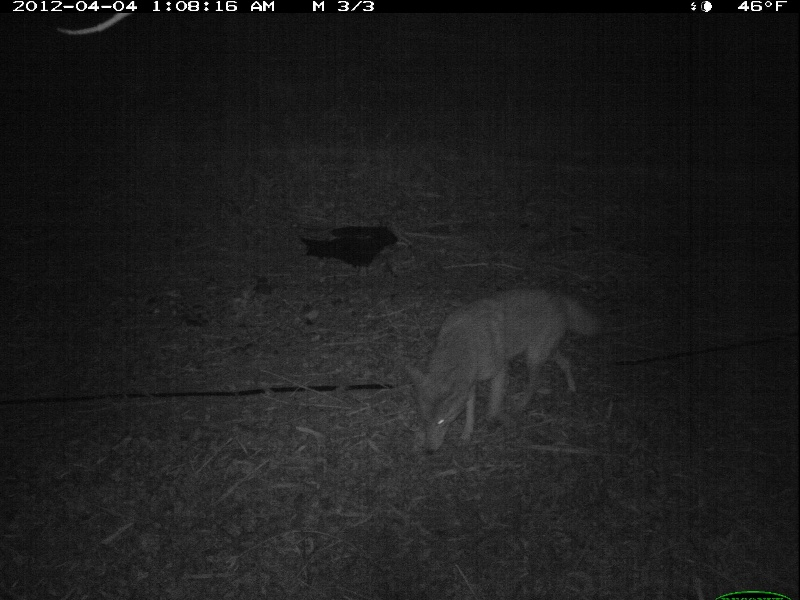coyote: (403, 283, 601, 462)
